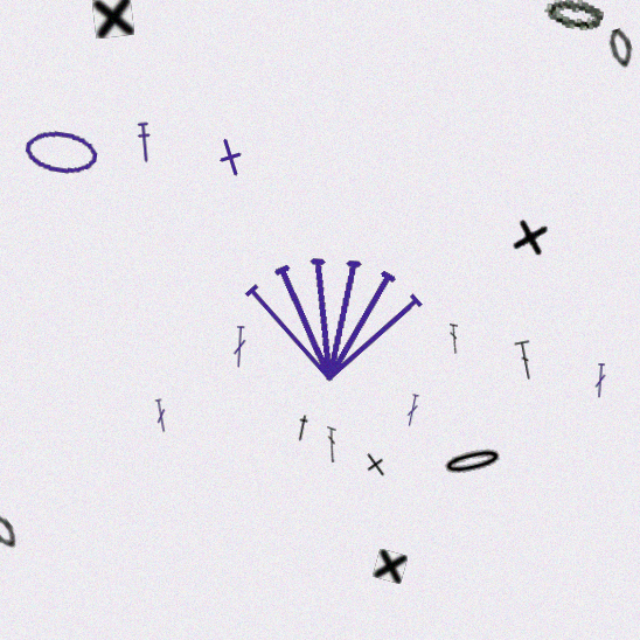chain: (54, 160, 120, 205), (411, 431, 469, 464), (500, 46, 553, 80), (20, 488, 55, 525), (554, 75, 580, 112)
double: (475, 342, 495, 379), (233, 331, 247, 367), (166, 393, 180, 423), (381, 389, 395, 418), (543, 363, 555, 393), (315, 417, 323, 448), (420, 329, 427, 355)
fan: (237, 255, 403, 384)
half_double: (150, 156, 167, 192), (285, 406, 303, 431), (310, 29, 323, 52)
single: (211, 165, 254, 208), (471, 235, 508, 274), (114, 49, 150, 85), (354, 522, 384, 552), (343, 436, 370, 464)
